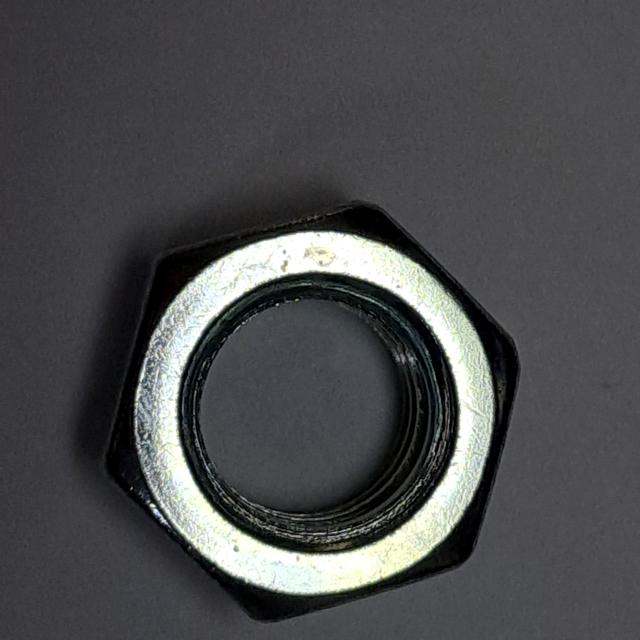Excellent: (88, 173, 532, 634)
